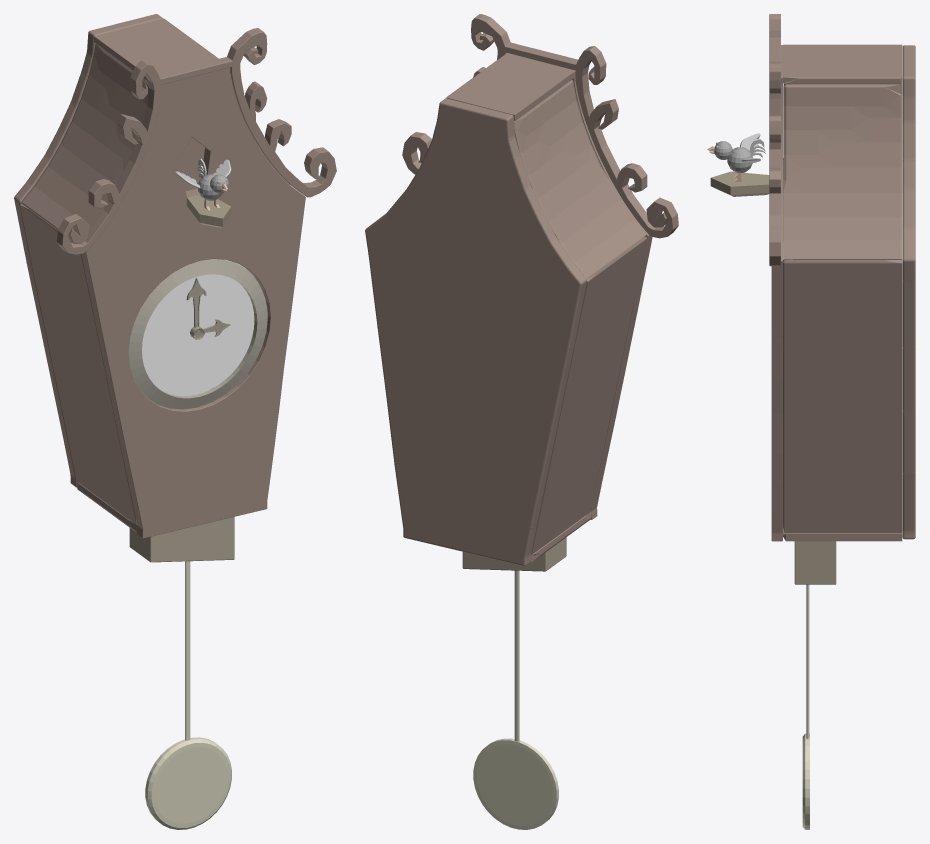
Rendered from sweethome3d-blendswap-cc-0-cuckoo-clock.glb.
The picture shows the model from 3 angles, left to right: view 1: azimuth 30°, elevation 25°; view 2: azimuth 150°, elevation 25°; view 3: azimuth 270°, elevation 25°; orthographic projection.
Visible parts, largest first — view 1: Plane.005, SurfCurve.005_Mesh.005, SurfCurve.001_Mesh.002, Circle, Cylinder.002_Cylinder.003, Torus, Plane_Plane.022, SurfCurve.003_Mesh, Cube_Cube.001, Cylinder.001_Cylinder.002, Plane.001; view 2: Plane_Plane.022, SurfCurve.005_Mesh.005, SurfCurve.001_Mesh.002, Plane.005, Cylinder.002_Cylinder.003, SurfCurve.003_Mesh, Cube_Cube.001, Cylinder.001_Cylinder.002; view 3: SurfCurve.006_Mesh.006, SurfCurve.002_Mesh.001, Plane_Plane.022, Plane.005, SurfCurve.003_Mesh, Cube_Cube.001, Plane.001, SurfCurve.004_Mesh.004, Cylinder.002_Cylinder.003, Cylinder.001_Cylinder.002, Plane.010_Plane.017.
Boxes of the visible parts, x1,y1,x2,y2 form: Plane.005: [57, 28, 336, 538]; SurfCurve.005_Mesh.005: [20, 204, 136, 524]; SurfCurve.001_Mesh.002: [21, 43, 148, 230]; Circle: [142, 274, 254, 396]; Cylinder.002_Cylinder.003: [145, 737, 231, 829]; Torus: [128, 259, 267, 409]; Plane_Plane.022: [14, 14, 204, 487]; SurfCurve.003_Mesh: [94, 18, 218, 81]; Cube_Cube.001: [129, 517, 234, 562]; Cylinder.001_Cylinder.002: [185, 561, 190, 740]; Plane.001: [186, 194, 231, 227]; Plane_Plane.022: [365, 98, 586, 566]; SurfCurve.005_Mesh.005: [531, 236, 646, 554]; SurfCurve.001_Mesh.002: [514, 80, 646, 278]; Plane.005: [402, 14, 678, 519]; Cylinder.002_Cylinder.003: [473, 738, 558, 829]; SurfCurve.003_Mesh: [446, 54, 574, 120]; Cube_Cube.001: [462, 537, 566, 571]; Cylinder.001_Cylinder.002: [514, 570, 519, 741]; SurfCurve.006_Mesh.006: [783, 259, 902, 533]; SurfCurve.002_Mesh.001: [783, 83, 902, 259]; Plane_Plane.022: [902, 45, 915, 539]; Plane.005: [769, 14, 782, 541]; SurfCurve.003_Mesh: [783, 44, 902, 84]; Cube_Cube.001: [794, 541, 836, 584]; Plane.001: [710, 171, 769, 196]; SurfCurve.004_Mesh.004: [783, 528, 902, 541]; Cylinder.002_Cylinder.003: [802, 733, 809, 829]; Cylinder.001_Cylinder.002: [806, 584, 809, 738]; Plane.010_Plane.017: [727, 147, 752, 172].
Size of the model in its own units: 26.63 by 73.84 by 17.74.
